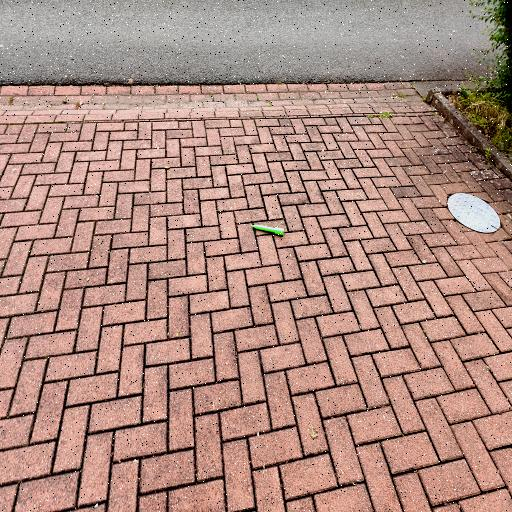Probe-Detection: (252, 225, 284, 236)
